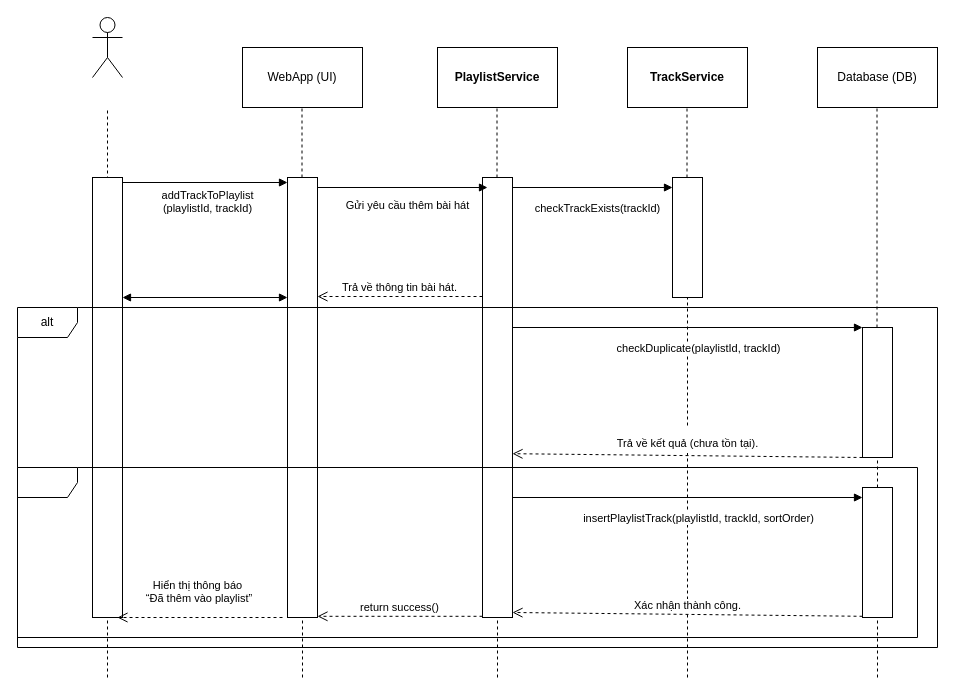
Image size: 955x696. Some labels were removed from this diagram. Each missing label, with the box of its shape:
opt: (16, 466, 918, 638)
User: (92, 16, 122, 78)
